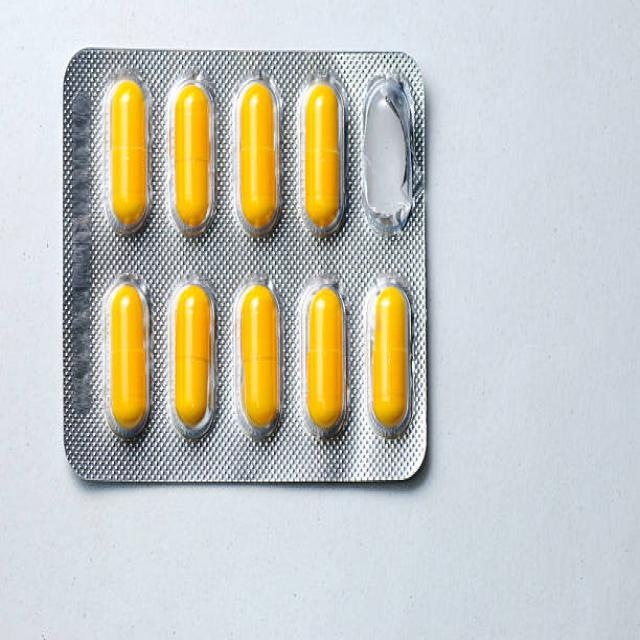Empty: (354, 60, 416, 249)
Pill: (163, 267, 226, 452), (96, 61, 158, 248), (297, 57, 350, 250), (228, 66, 284, 245), (103, 256, 154, 450), (360, 277, 416, 445), (164, 70, 216, 241), (240, 275, 287, 452), (300, 274, 347, 443)
